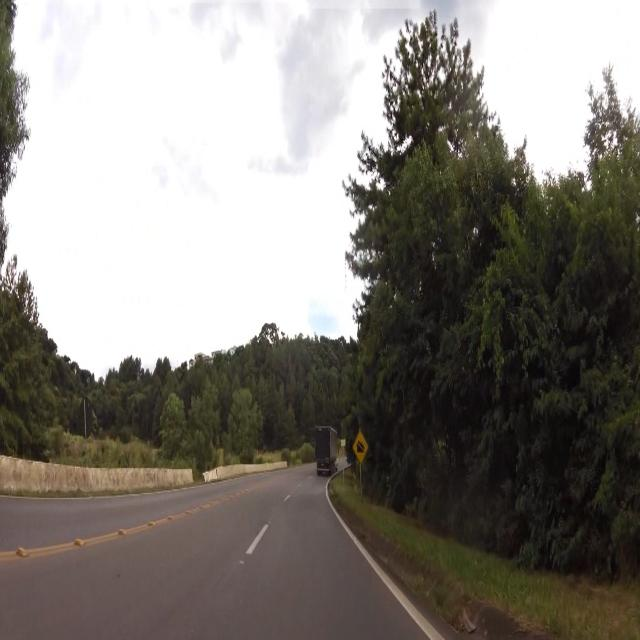A-20b: (351, 430, 373, 467)
